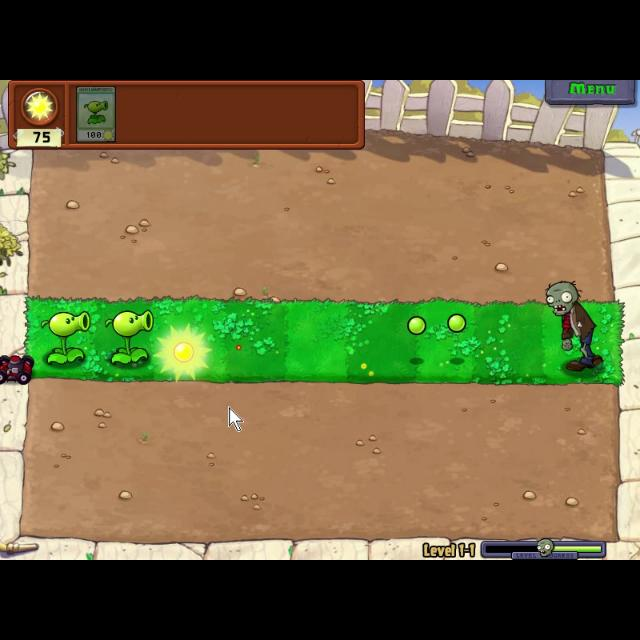Garden: (22, 293, 626, 389)
Menu Button: (544, 80, 638, 106)
Mower: (1, 351, 36, 387)
Peashooter: (76, 84, 116, 144)
Peashooter Seed: (102, 309, 160, 367), (40, 309, 92, 366)
Seed Panel: (7, 80, 365, 150)
Sun: (152, 322, 218, 388)
Zombie: (542, 278, 604, 374)
